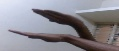hand: (7, 28, 66, 43), (30, 7, 75, 26)
